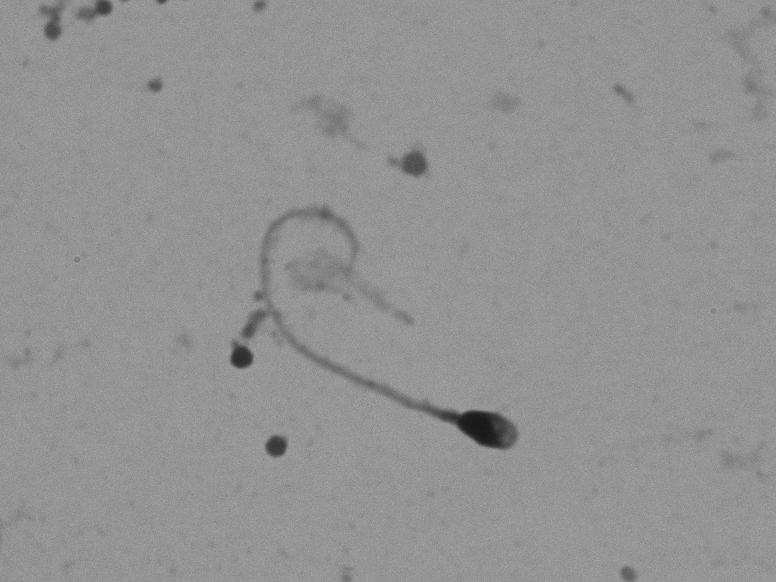Abnormal: (256, 178, 539, 469)
